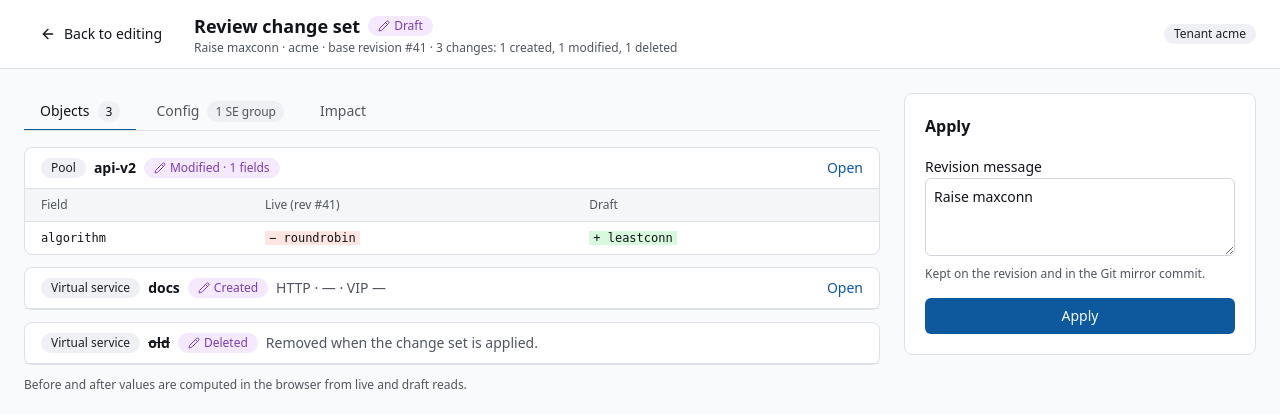
it: review screen › config tab shows + and − lines; impact tab shows what it touches
Click the tab "Config1 SE group" at (220, 112), box [140,93,300,131]
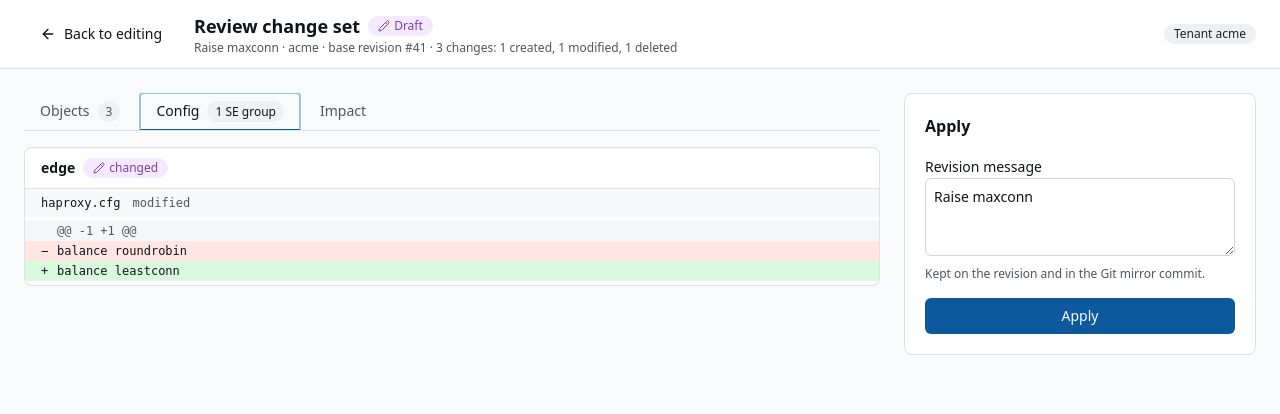
Now the text "balance leastconn" is shown, box [57,261,180,281]
Now the text "haproxy.cfg" is shown, box [41,195,120,211]
Click the tab "Impact" at (343, 112), box [304,93,382,131]
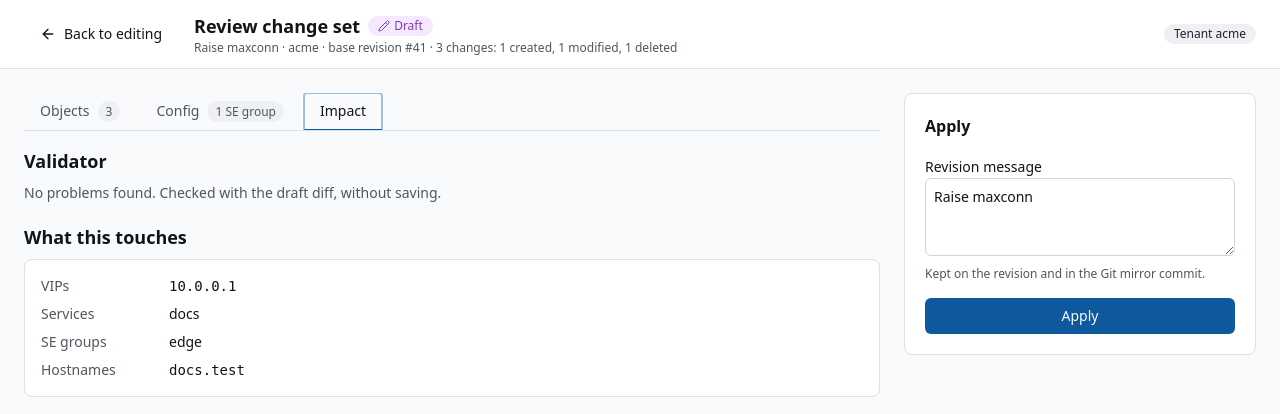
Now the text "10.0.0.1" is shown, box [169,278,236,294]
Now the text "docs.test" is shown, box [169,362,245,378]
Now the text "No problems found" is shown, box [24,183,441,202]
